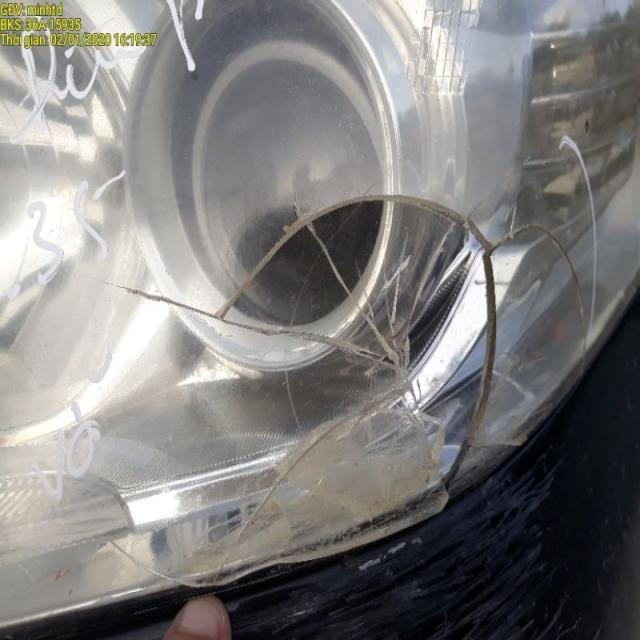Phare abime: (113, 143, 592, 580)
